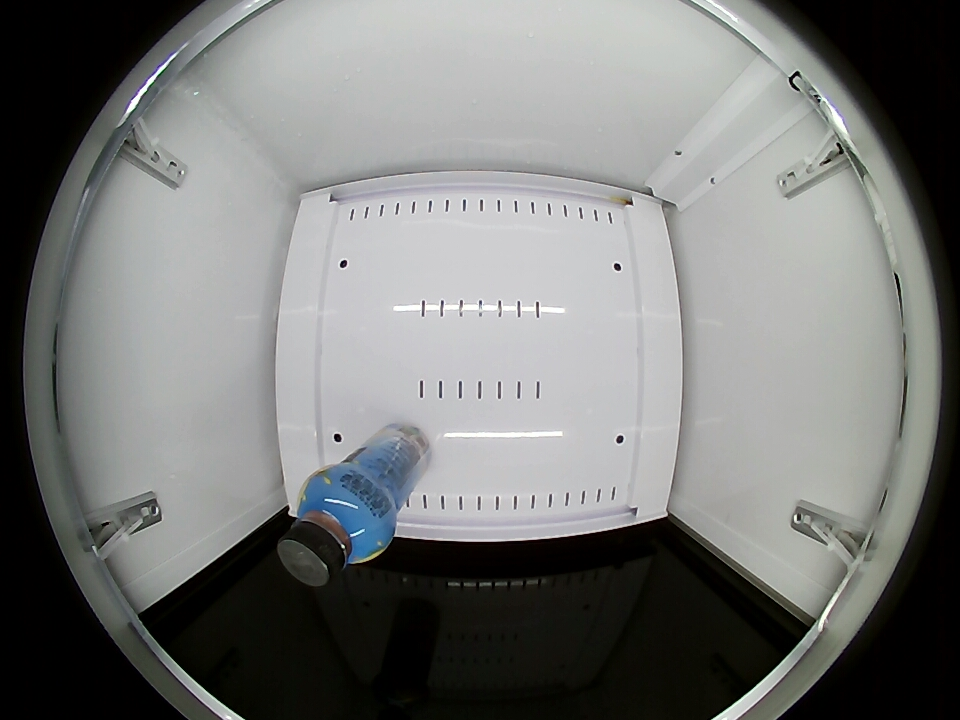guolicheng2: (277, 475, 392, 586)
